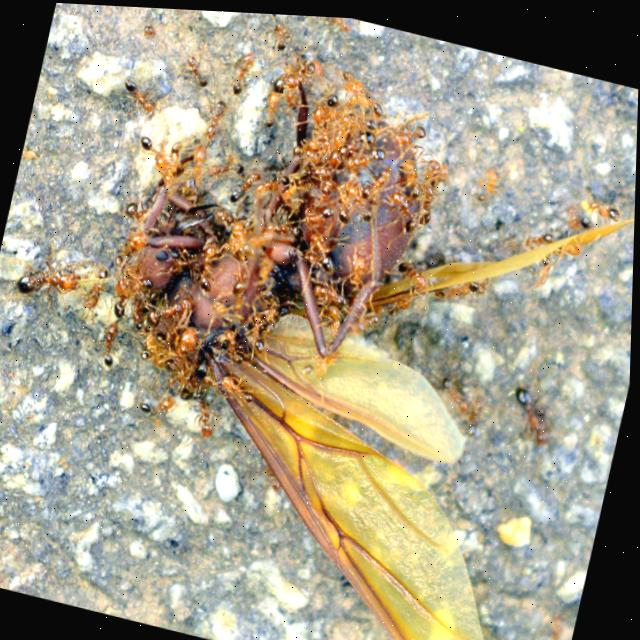Dead-Female-Alate: (54, 26, 639, 640)
